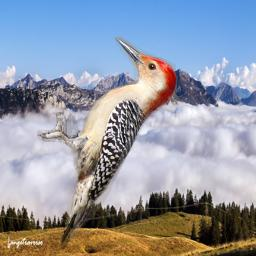Woodpecker: (37, 37, 180, 251)
